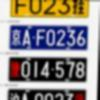License_Plate: (8, 1, 89, 100)
